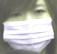with_mask: (1, 1, 57, 54)
